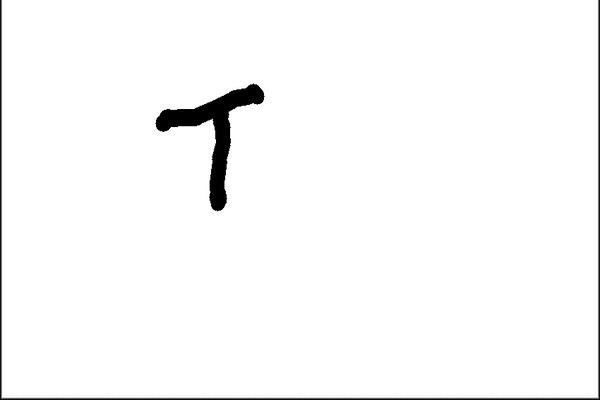T: (143, 79, 275, 214)
